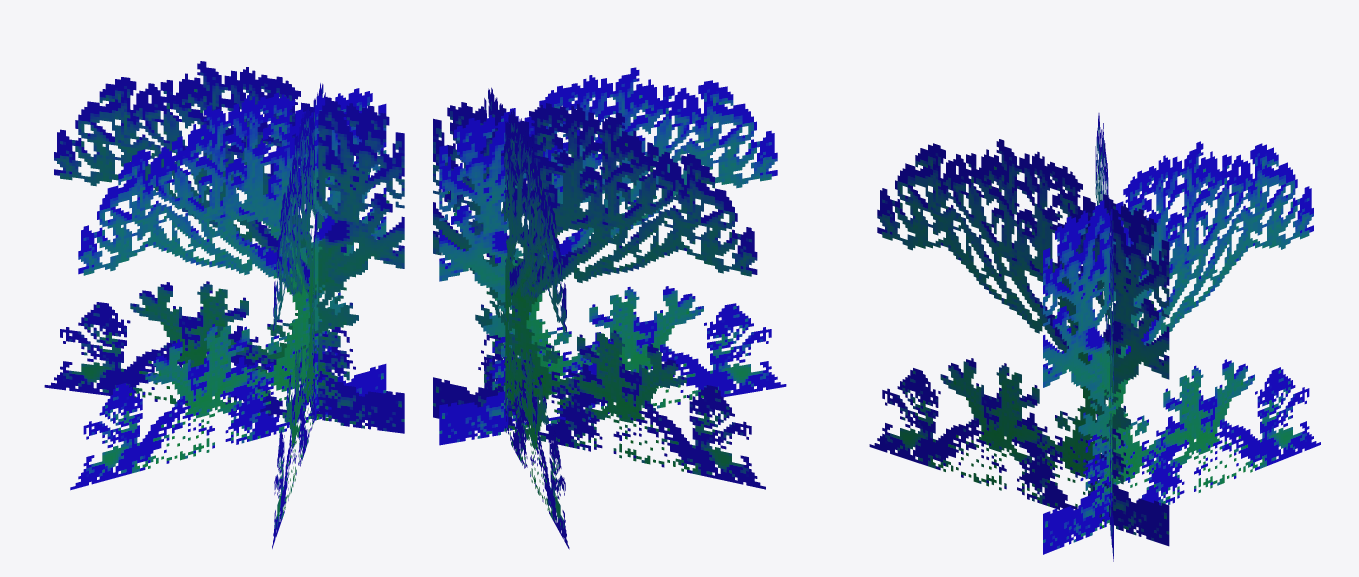
The model's file is Branch Coral 4.fbx.
3 renders of one model, left to right at view 1: azimuth 30°, elevation 25°; view 2: azimuth 150°, elevation 25°; view 3: azimuth 270°, elevation 25°, orthographic.
Parts seen in each view (by area): view 1: pink branching coral png.012; view 2: pink branching coral png.012; view 3: pink branching coral png.012.
Part boxes in pixels (<box>): pink branching coral png.012: <box>44,61,404,548</box>; pink branching coral png.012: <box>433,67,786,549</box>; pink branching coral png.012: <box>869,113,1320,561</box>.
Bounding box in the file's own units: 18.33 × 18.35 × 22.22.
1 material, 1 textured.
